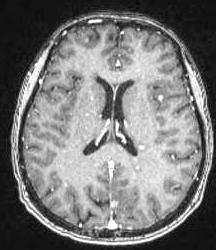Normal_Brain: (8, 1, 216, 250)
